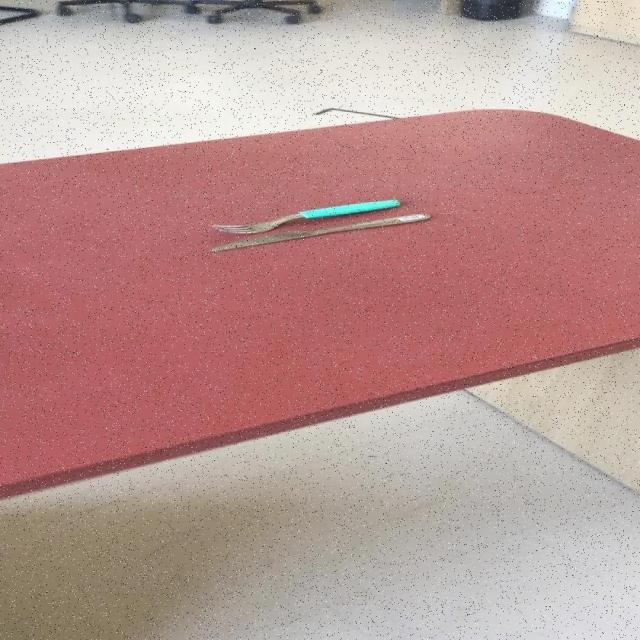Fork: (211, 198, 404, 233)
Knife: (210, 212, 434, 253)
